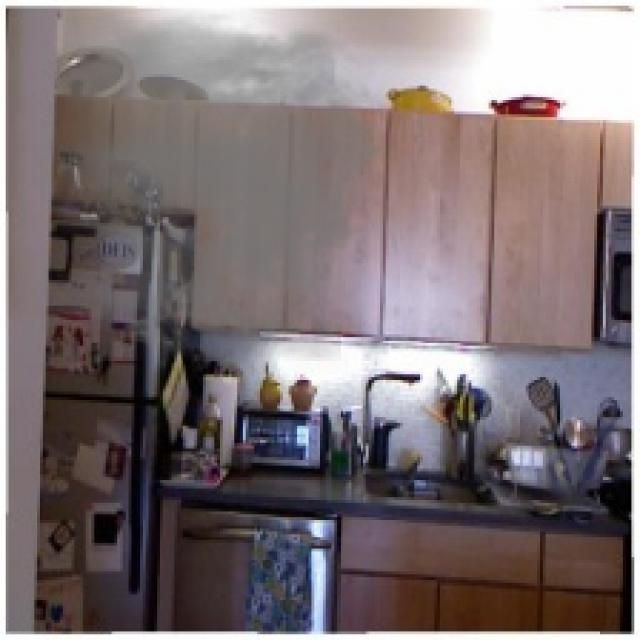smoke: (40, 9, 400, 360)
